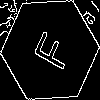F: (25, 25, 74, 73)
